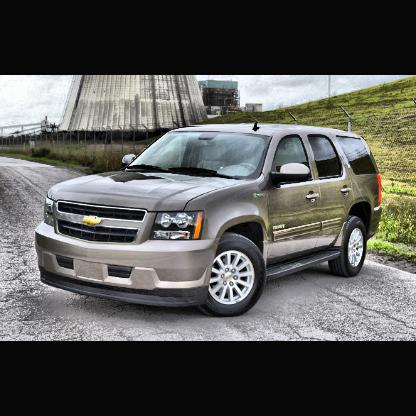Chevrolet Tahoe Hybrid SUV 2012: (37, 120, 386, 321)
